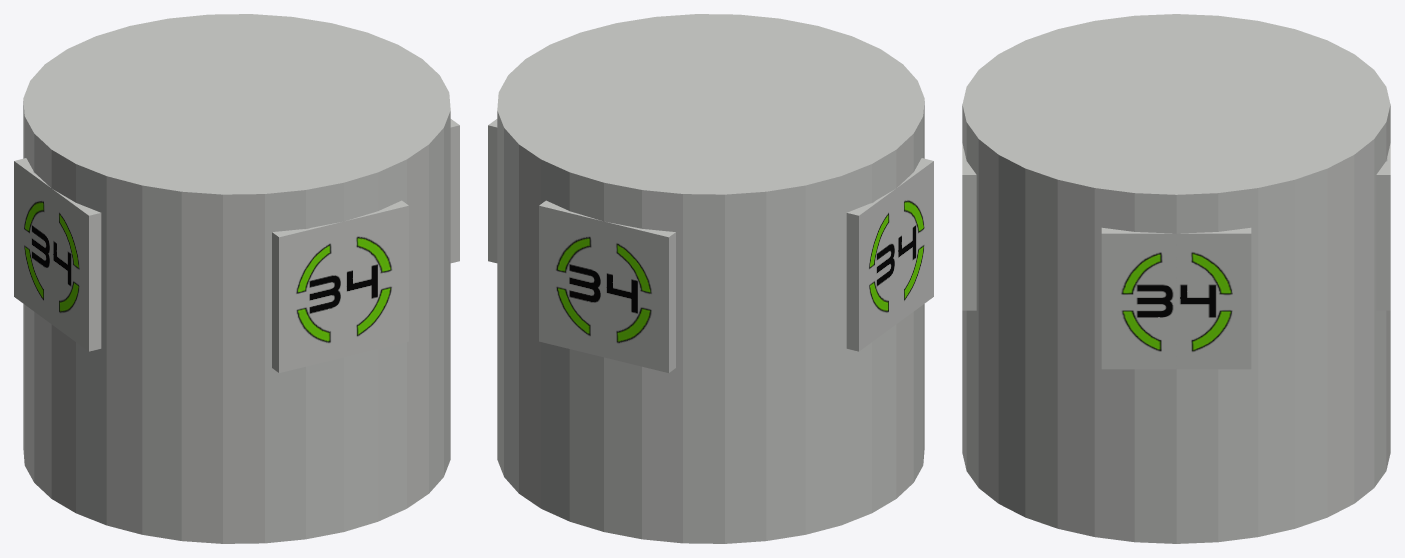
Rendered from tour34.dae.
The picture shows the model from 3 angles, left to right: view 1: azimuth 30°, elevation 25°; view 2: azimuth 150°, elevation 25°; view 3: azimuth 270°, elevation 25°; orthographic projection.
Visible parts, largest first — view 1: Cylinder, Cube, Cube.003, Cube.002; view 2: Cylinder, Cube.001, Cube.003, Cube.002; view 3: Cylinder, Cube.002, Cube.001, Cube.
Boxes of the visible parts, left/top/right/bottom form: Cylinder: left=23, top=14, right=450, bottom=543; Cube: left=272, top=200, right=408, bottom=372; Cube.003: left=14, top=158, right=101, bottom=351; Cube.002: left=450, top=119, right=459, bottom=263; Cylinder: left=497, top=14, right=924, bottom=543; Cube.001: left=539, top=200, right=675, bottom=372; Cube.003: left=846, top=158, right=933, bottom=351; Cube.002: left=488, top=119, right=497, bottom=263; Cylinder: left=962, top=14, right=1390, bottom=543; Cube.002: left=1101, top=227, right=1251, bottom=369; Cube.001: left=1376, top=143, right=1390, bottom=310; Cube: left=962, top=143, right=976, bottom=310.
Bounding box in the file's own units: 4 × 4 × 3.6.
Materials: 2 (2 with a texture image).
